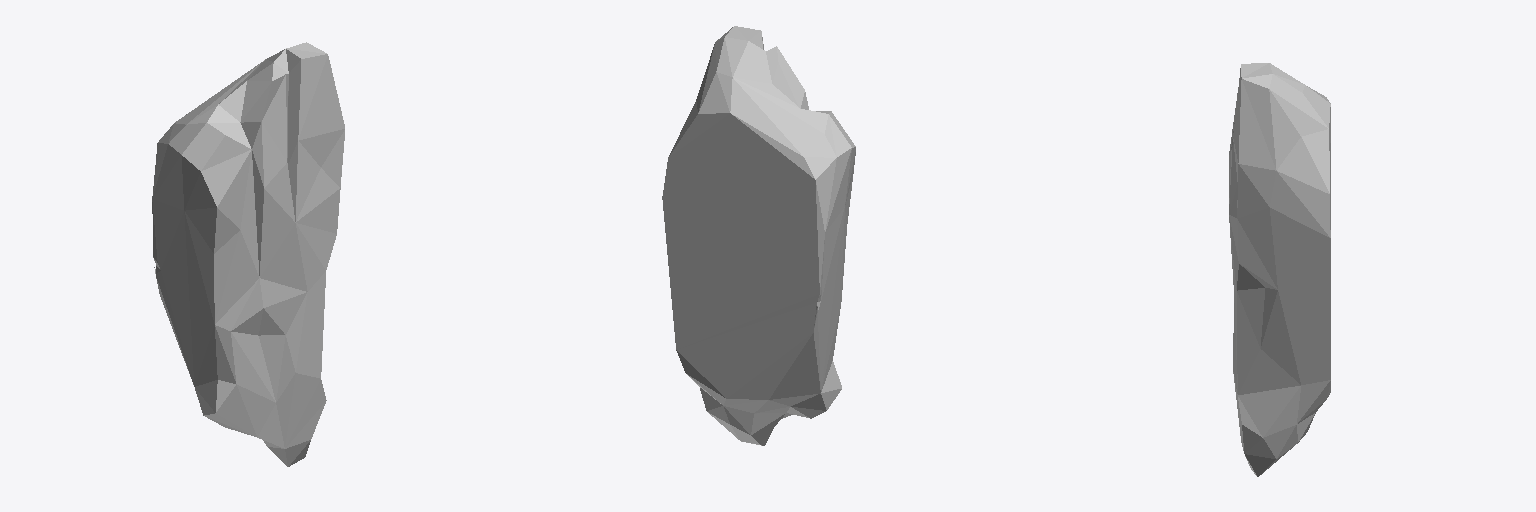
The model's file is MOD_Glacier3.OBJ.
The picture shows the model from 3 angles: view 1: azimuth 30°, elevation 25°; view 2: azimuth 150°, elevation 25°; view 3: azimuth 270°, elevation 25°; orthographic projection.
Parts seen in each view (by area): view 1: Group42703; view 2: Group42703; view 3: Group42703.
Part boxes in pixels (left/top/right/bottom): Group42703: left=152, top=42, right=344, bottom=466; Group42703: left=662, top=26, right=855, bottom=445; Group42703: left=1229, top=63, right=1330, bottom=476.
Bounding box in the file's own units: 9.9 × 24.15 × 5.47.